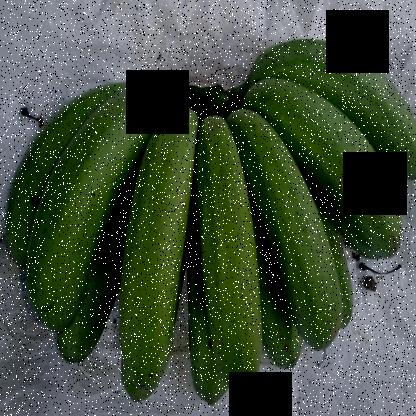unripe: (11, 65, 166, 354), (209, 84, 340, 347), (250, 11, 415, 165), (190, 108, 274, 404), (118, 84, 191, 415)
